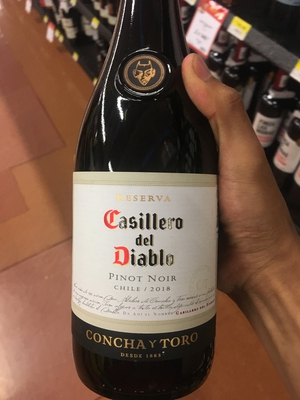casillero del diablo pinot noir: (63, 14, 239, 400)
